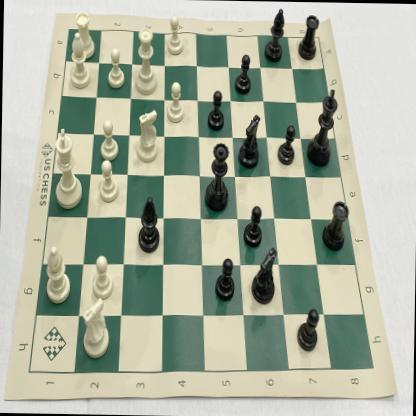bishop: (42, 242, 73, 306), (136, 193, 162, 255), (68, 30, 92, 90), (263, 5, 286, 63)
king: (50, 124, 86, 210), (304, 85, 338, 170)
knight: (249, 242, 280, 307), (82, 295, 112, 360), (133, 107, 161, 166), (236, 112, 262, 171)
pawn: (294, 304, 320, 353), (96, 158, 120, 206), (91, 252, 114, 300), (240, 203, 263, 250), (232, 50, 254, 97), (164, 78, 186, 125), (164, 12, 186, 58), (276, 122, 297, 168), (106, 45, 127, 90), (216, 256, 236, 302), (98, 118, 119, 161), (206, 88, 226, 132)
queen: (203, 140, 232, 214), (132, 24, 160, 97)
rook: (319, 195, 349, 252), (297, 11, 320, 64), (73, 8, 95, 60)
